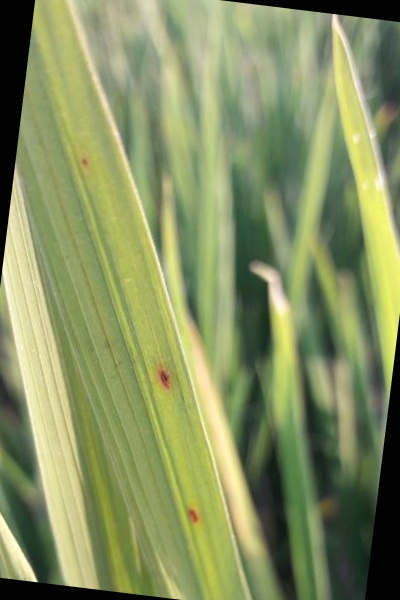Bacterial_Leaf_Blight: (150, 350, 178, 395), (75, 141, 100, 177), (177, 500, 204, 527)
